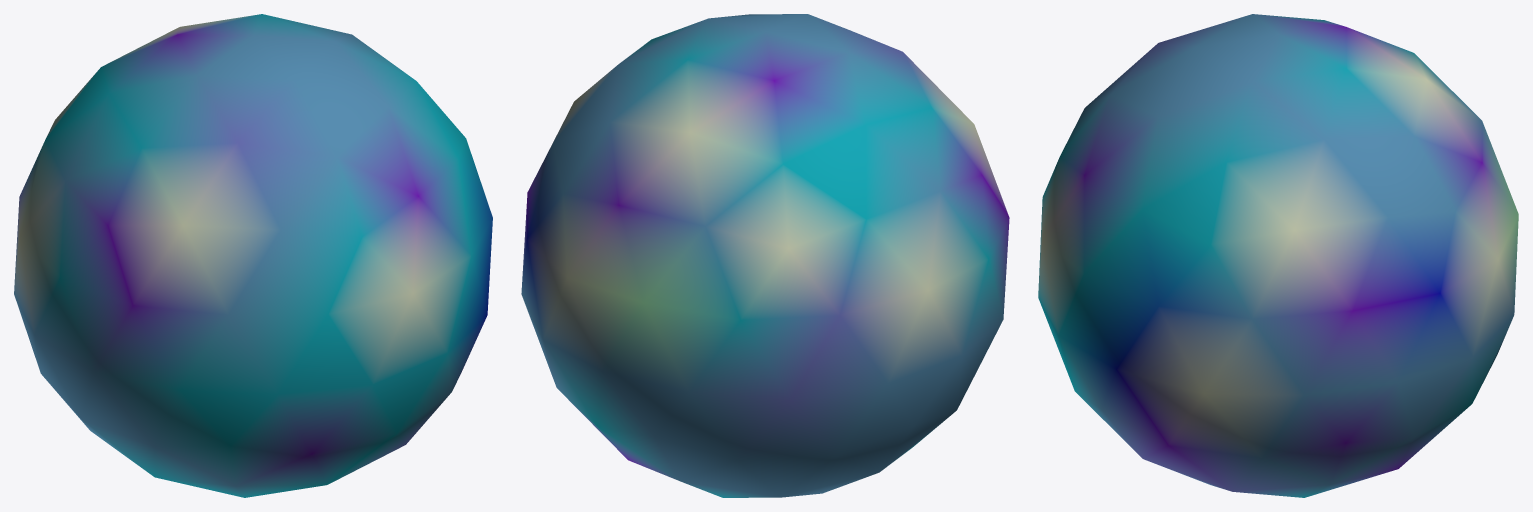
The model's file is skyGeoDome.dae.
The picture shows the model from 3 angles, left to right: view 1: azimuth 30°, elevation 25°; view 2: azimuth 150°, elevation 25°; view 3: azimuth 270°, elevation 25°; orthographic projection.
Parts seen in each view (by area): view 1: F3:GeoDome1-0; view 2: F3:GeoDome1-0; view 3: F3:GeoDome1-0.
Part boxes in pixels (box(x1,y1,x2,y2)): F3:GeoDome1-0: box(14, 14, 492, 497); F3:GeoDome1-0: box(521, 14, 1009, 497); F3:GeoDome1-0: box(1038, 14, 1518, 497).
Bounding box in the file's own units: 10 × 10.21 × 10.03.
